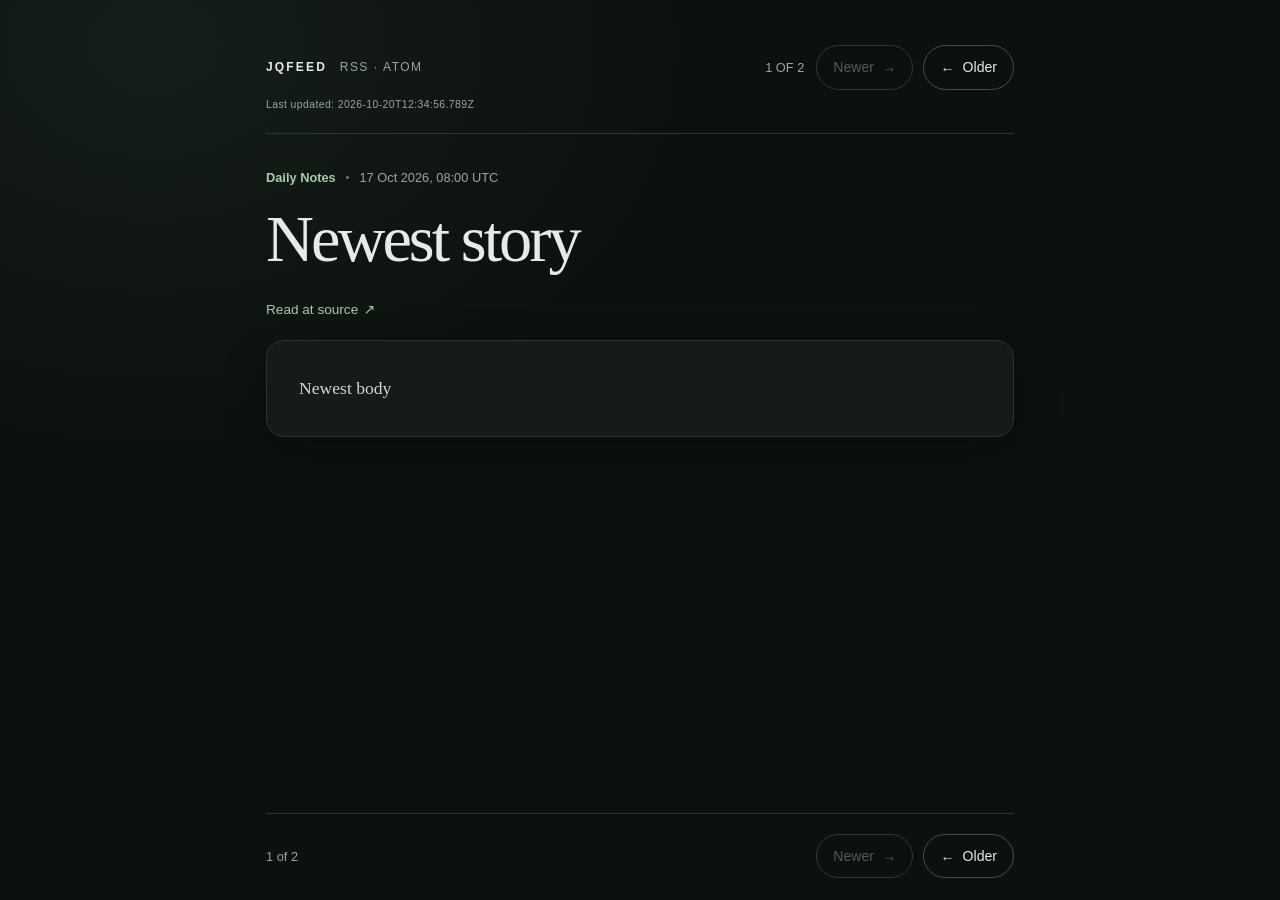
Reader › uses left for older and right for newer from different reader areas
The width and height of the screenshot is (1280, 900).
Press the mouse on the text "Newest body" at (345, 388), box [299, 378, 391, 398]
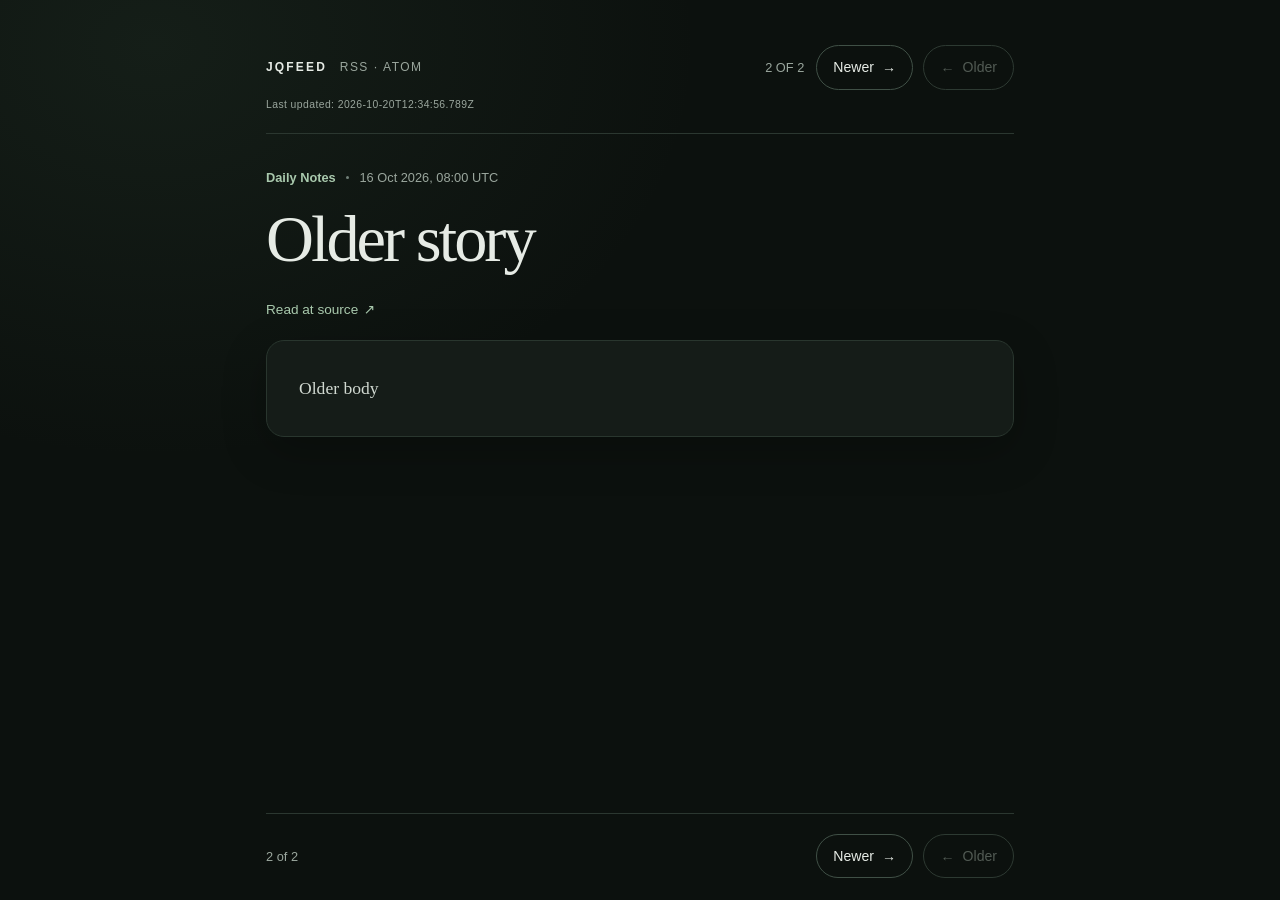
expect the heading "Older story" is shown: met, box [266, 202, 534, 274]
Press the mouse on the link "jqfeed" at (296, 67), box [266, 60, 327, 74]
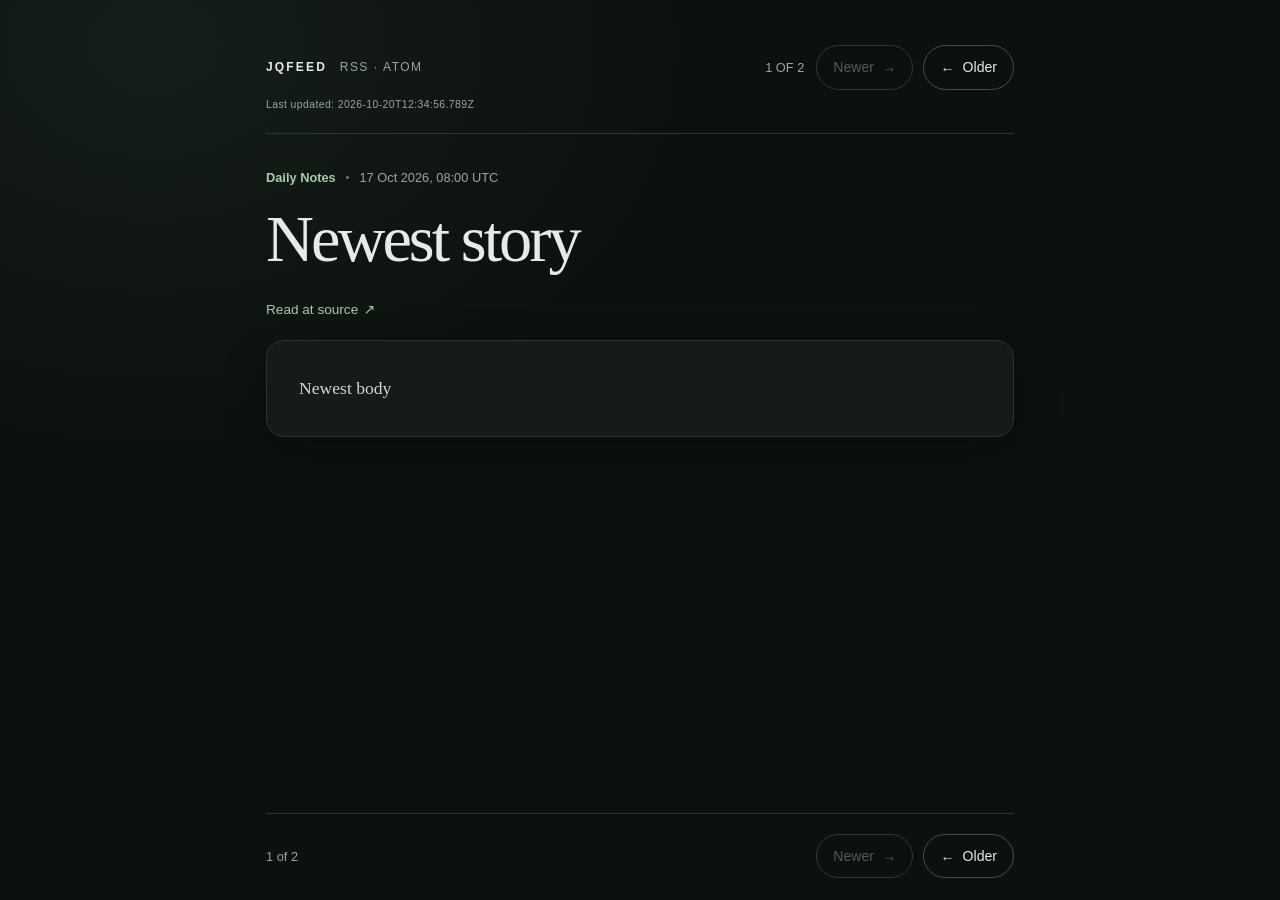
expect the heading "Newest story" is shown: met, box [266, 202, 579, 274]
Press the mouse on the 2nd text "1 of 2" at (282, 856), box [266, 848, 298, 864]
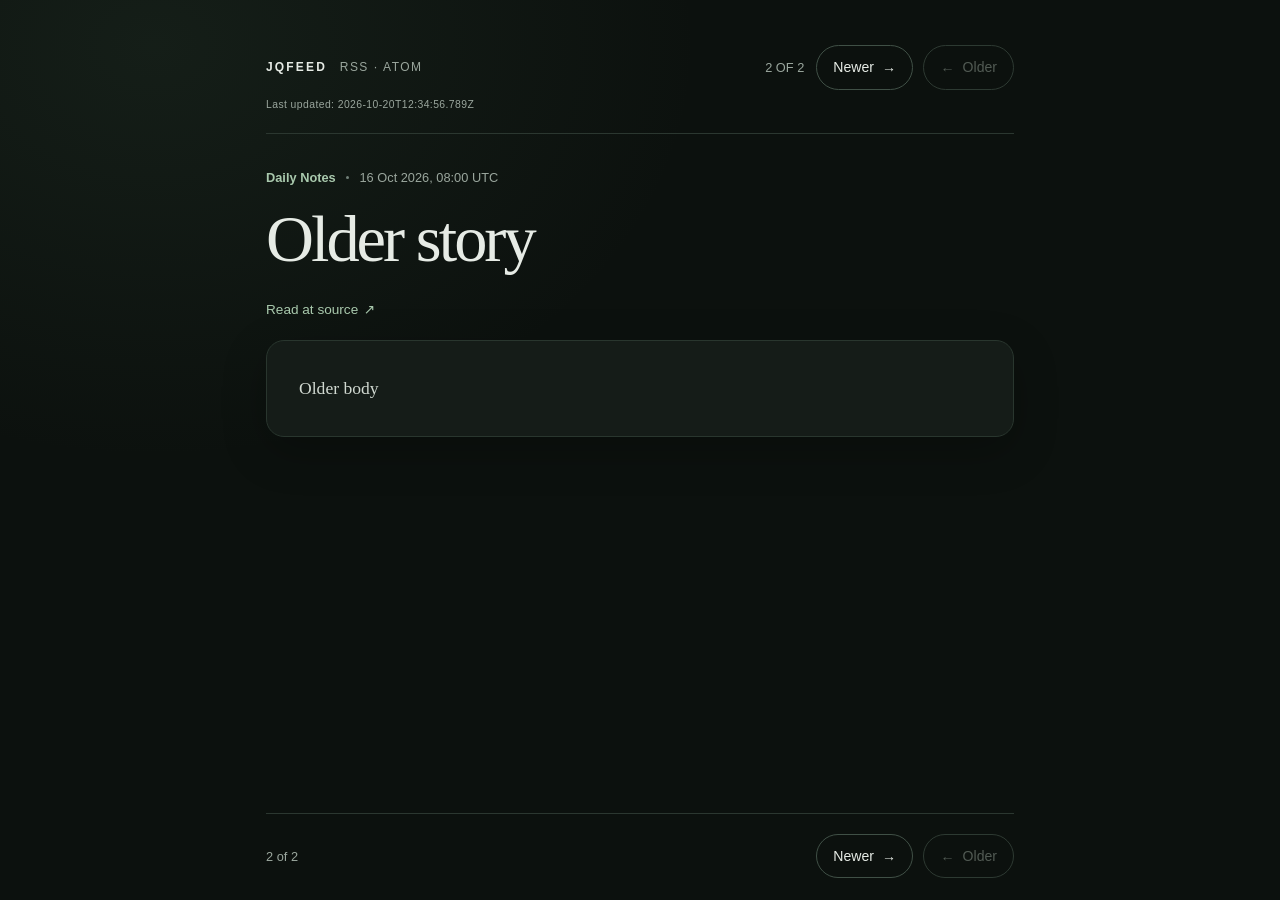
expect the heading "Older story" is shown: met, box [266, 202, 534, 274]
